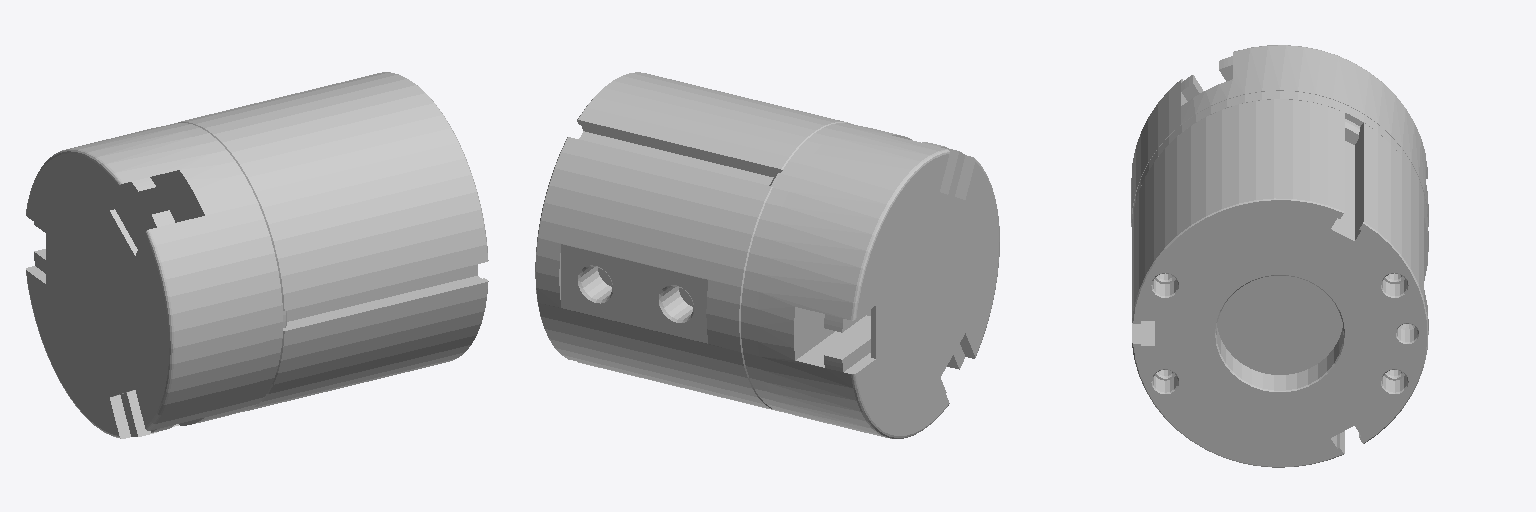
Rendered from Gripper3F0.obj.
The picture shows the model from 3 angles: view 1: azimuth 30°, elevation 25°; view 2: azimuth 150°, elevation 25°; view 3: azimuth 270°, elevation 25°; orthographic projection.
Bounding box in the file's own units: 0.0865 × 0.07 × 0.07.